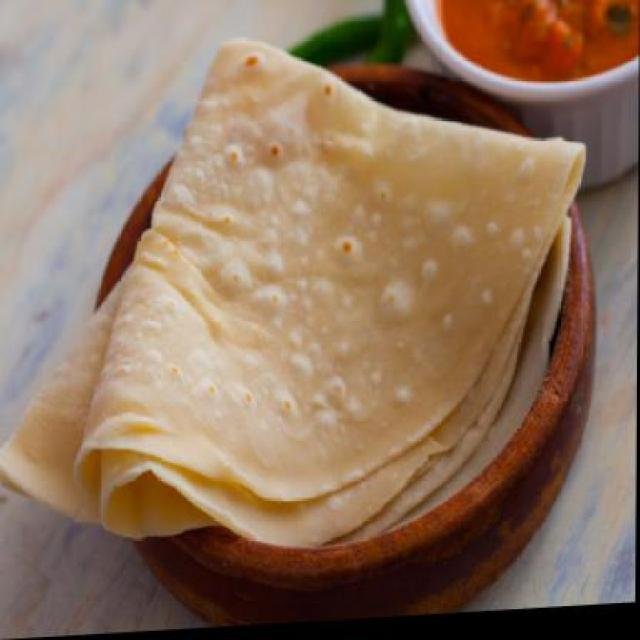chapati: (0, 26, 588, 566)
